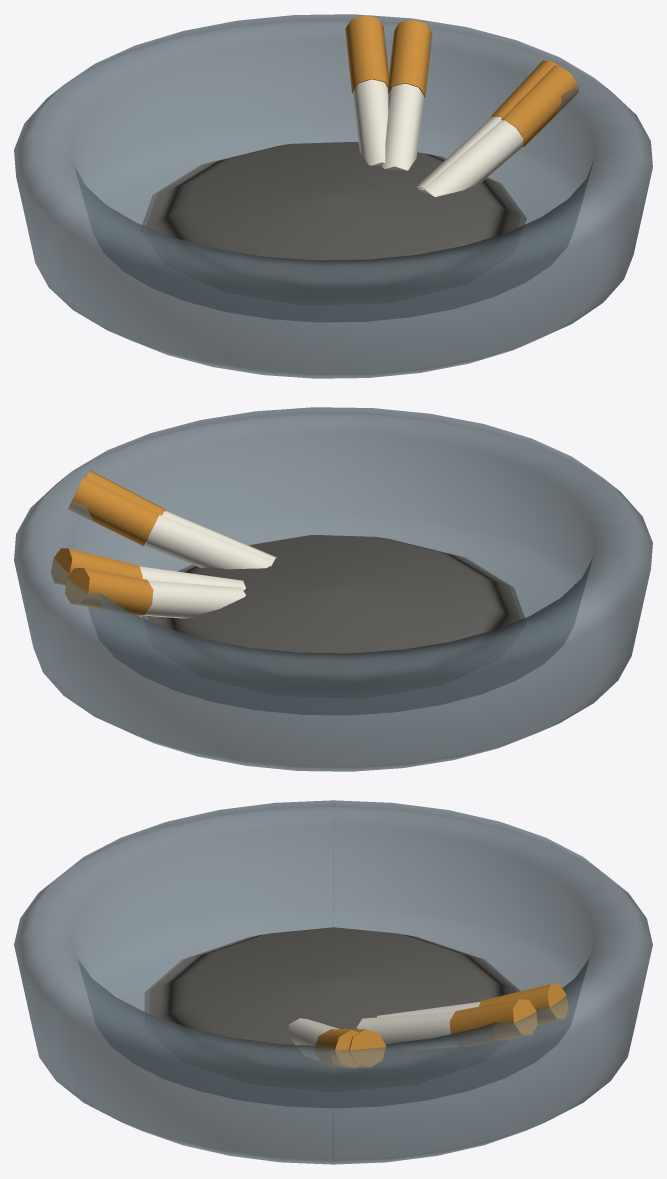
Rendered from dom_popielniczka.glb.
3 renders of one model, top to bottom at view 1: azimuth 30°, elevation 25°; view 2: azimuth 150°, elevation 25°; view 3: azimuth 270°, elevation 25°, orthographic.
Parts seen in each view (by area): view 1: Popielniczka, Pety; view 2: Popielniczka, Pety; view 3: Popielniczka, Pety.
Boxes of the visible parts, x1,y1,x2,y2 form: Popielniczka: [14, 14, 652, 378]; Pety: [142, 15, 578, 300]; Popielniczka: [14, 407, 652, 771]; Pety: [51, 470, 524, 693]; Popielniczka: [14, 800, 652, 1164]; Pety: [144, 927, 568, 1087].
Bounding box in the file's own units: 0.132 × 0.0307 × 0.132.
